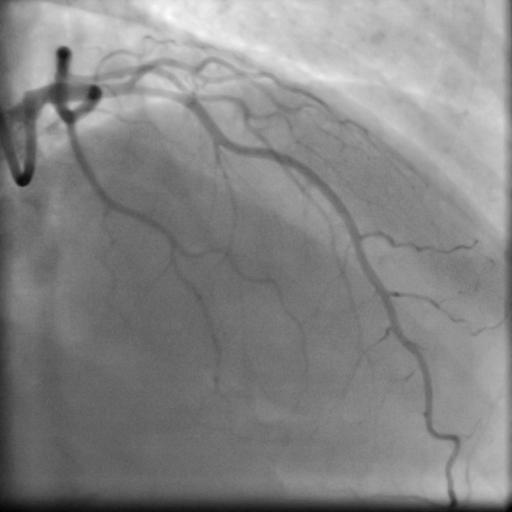Stenosis: (126, 84, 182, 101)
